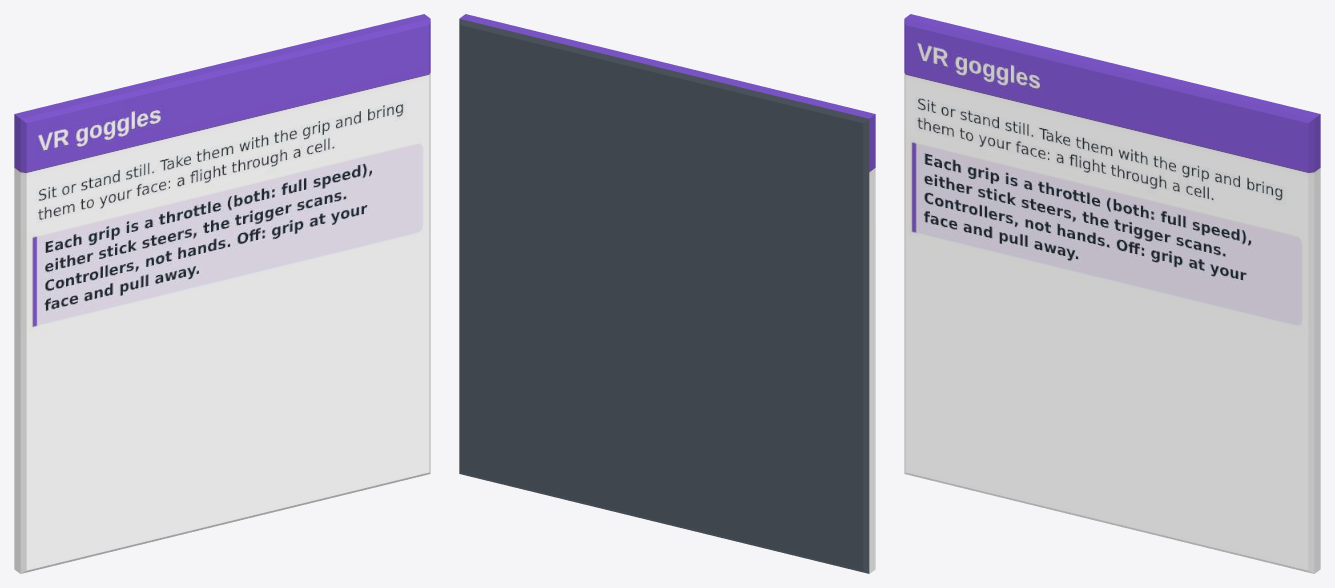
File: 27-goggles.glb
The picture shows the model from 3 angles, left to right: view 1: azimuth 30°, elevation 25°; view 2: azimuth 150°, elevation 25°; view 3: azimuth 330°, elevation 25°; orthographic projection.
Parts seen in each view (by area): view 1: board; view 2: board; view 3: board.
Part boxes in pixels (box(x1,y1,x2,y2)): board: box(14, 14, 430, 573); board: box(459, 14, 875, 573); board: box(904, 14, 1320, 573).
Size of the model in its own units: 0.66 by 0.7 by 0.03.
1 material, 1 textured.
